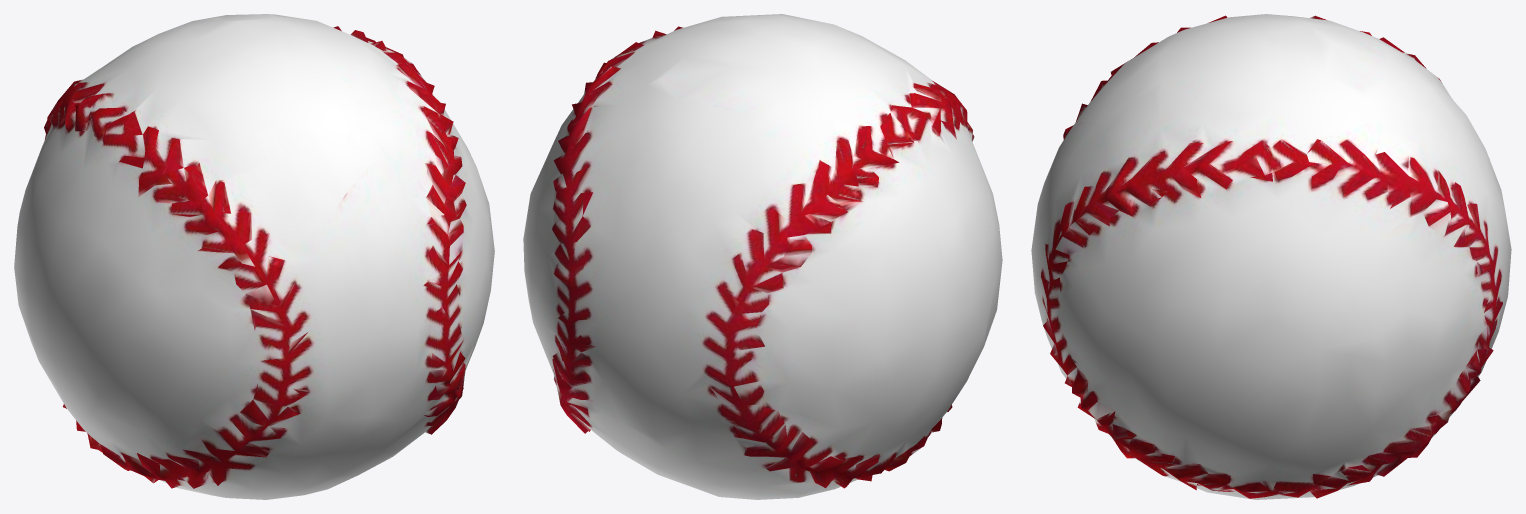
Rendered from ball.glb.
3 views of the same model, side by side, from view 1: azimuth 30°, elevation 25°; view 2: azimuth 150°, elevation 25°; view 3: azimuth 270°, elevation 25° (orthographic).
Visible parts, largest first — view 1: Bat; view 2: Bat; view 3: Bat.
Part boxes in pixels (x1,y1,x2,y2): Bat: (14,14,494,499); Bat: (523,14,1002,499); Bat: (1031,14,1511,499).
Bounding box in the file's own units: 1.9 × 1.9 × 1.9.
1 material, 1 textured.
